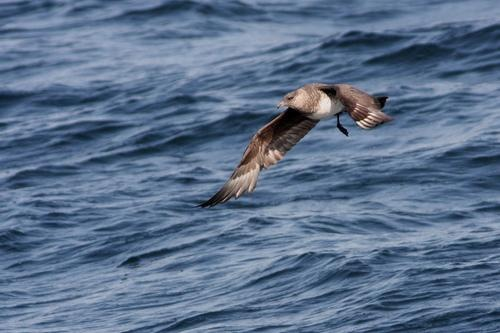bird: (195, 82, 391, 216)
